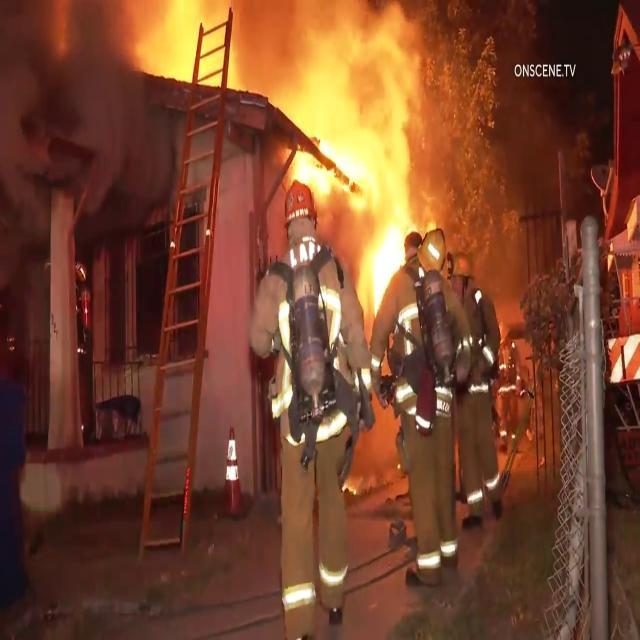Fire: (382, 95, 438, 316), (301, 95, 361, 246)
Smoke: (16, 21, 133, 210)
